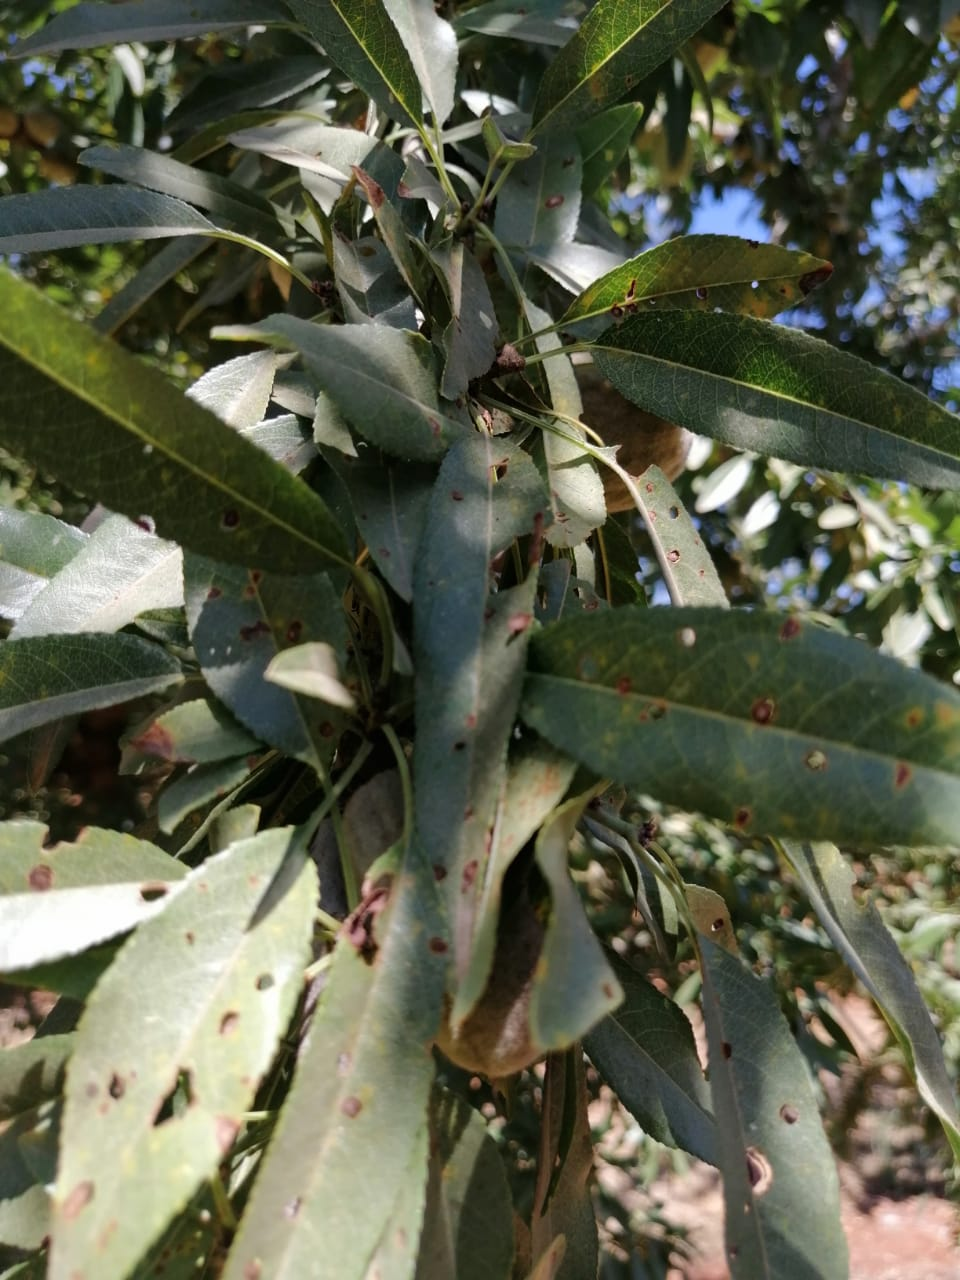coryneum: (48, 825, 321, 1280), (522, 604, 960, 848), (409, 431, 548, 1031), (696, 931, 856, 1280)
